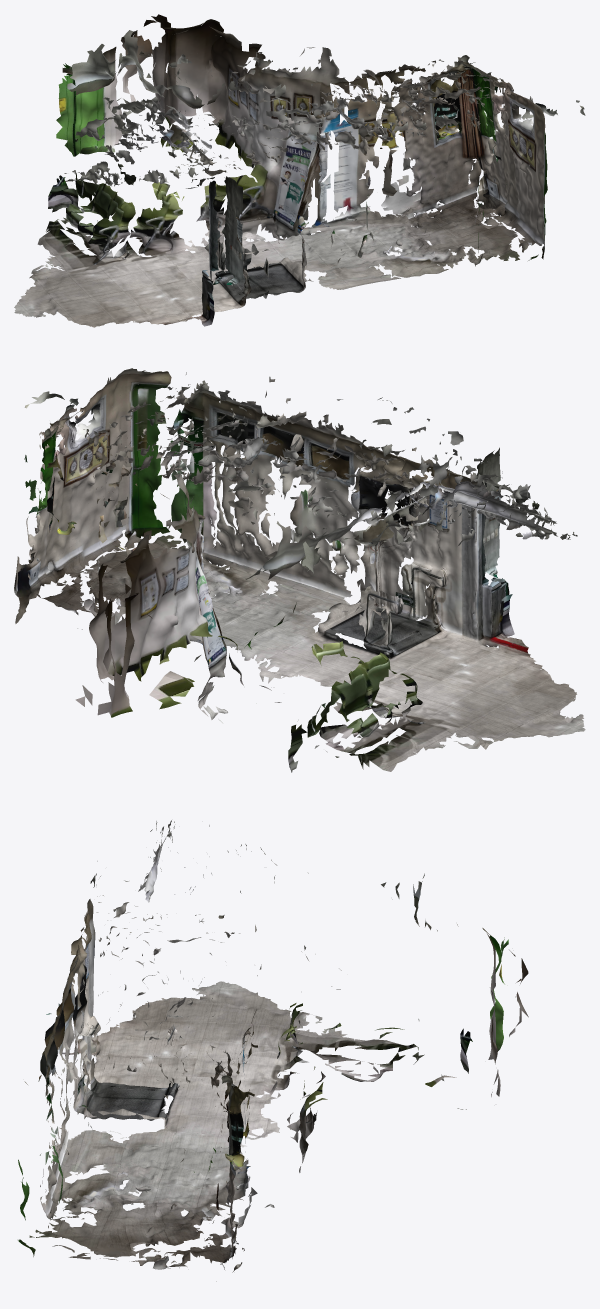
File: 144554-1C-tex.glb
The picture shows the model from 3 angles, top to bottom: view 1: azimuth 30°, elevation 25°; view 2: azimuth 150°, elevation 25°; view 3: azimuth 270°, elevation 25°; orthographic projection. The views are drawn at different scales.
Visible parts, largest first — view 1: Node; view 2: Node; view 3: Node.
Part boxes in pixels (left/top/right/bottom): Node: left=14, top=14, right=585, bottom=327; Node: left=14, top=368, right=585, bottom=772; Node: left=18, top=820, right=528, bottom=1281.
Bounding box in the file's own units: 9.77 × 5.04 × 7.41.
Materials: 21 (21 with a texture image).
